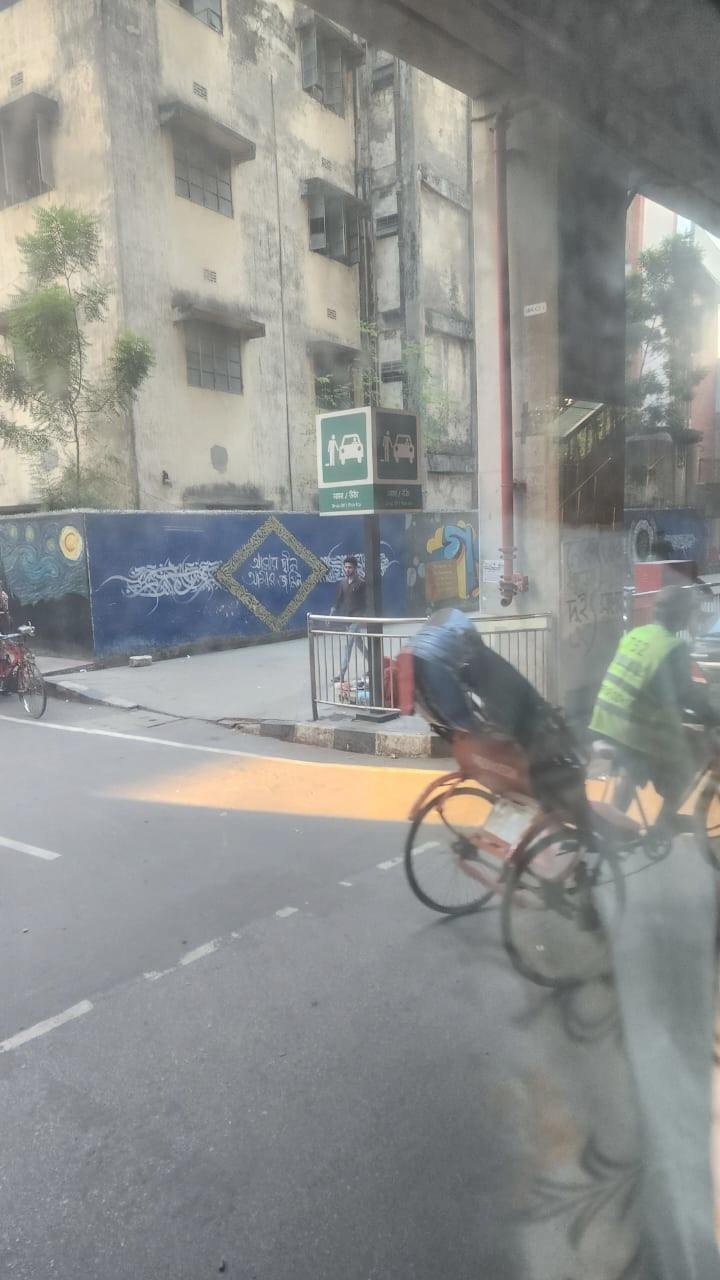Metro Dorp Up Pick up: (316, 407, 422, 512)
